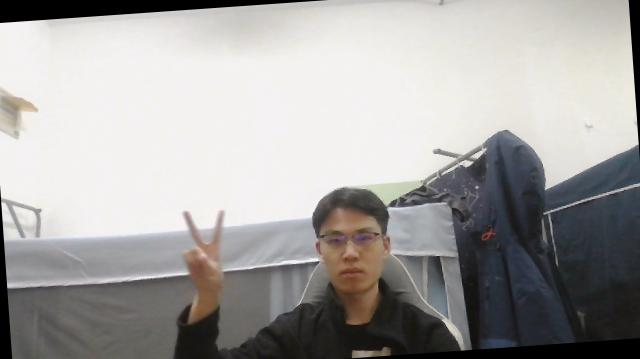two: (178, 207, 229, 293)
